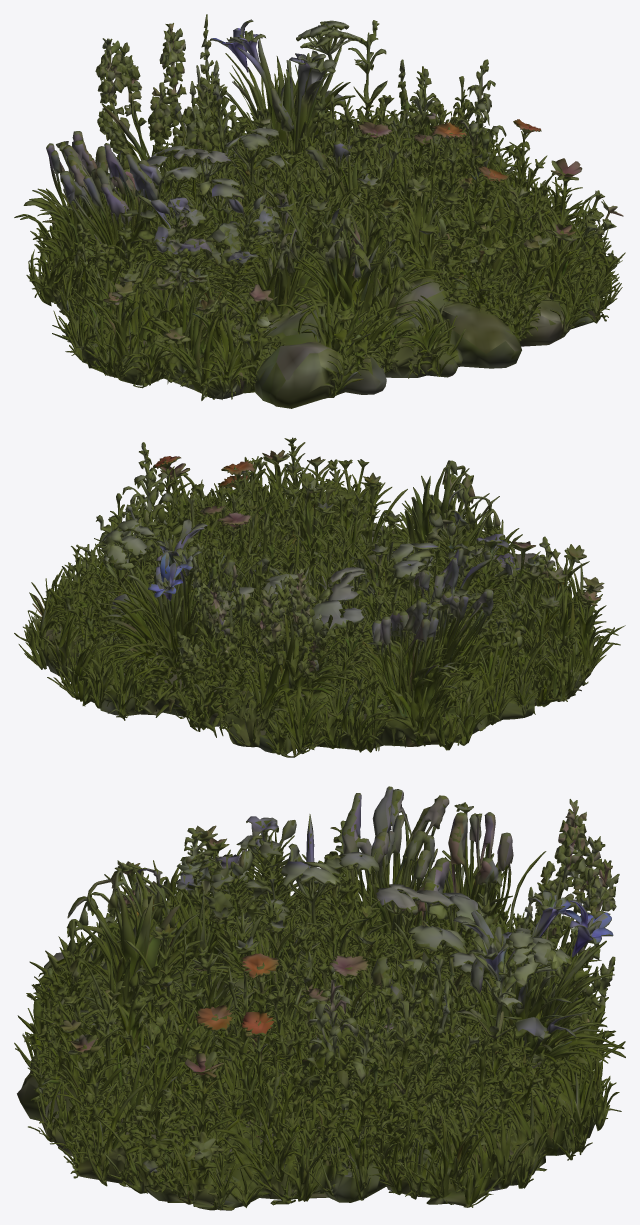
The model's file is Meshy_AI_flower_meadow_cluster_0823035413_image-to-3d-texture.glb.
3 views of the same model, one above another, from view 1: azimuth 30°, elevation 25°; view 2: azimuth 150°, elevation 25°; view 3: azimuth 270°, elevation 25° (orthographic). The views are drawn at different scales.
Visible parts, largest first — view 1: mesh_node; view 2: mesh_node; view 3: mesh_node.
Part boxes in pixels (x1,y1,x2,y2): mesh_node: [14, 14, 625, 408]; mesh_node: [14, 437, 625, 757]; mesh_node: [14, 786, 625, 1210].
Size of the model in its own units: 1.92 by 0.6958 by 1.69.
Materials: 1 (1 with a texture image).
